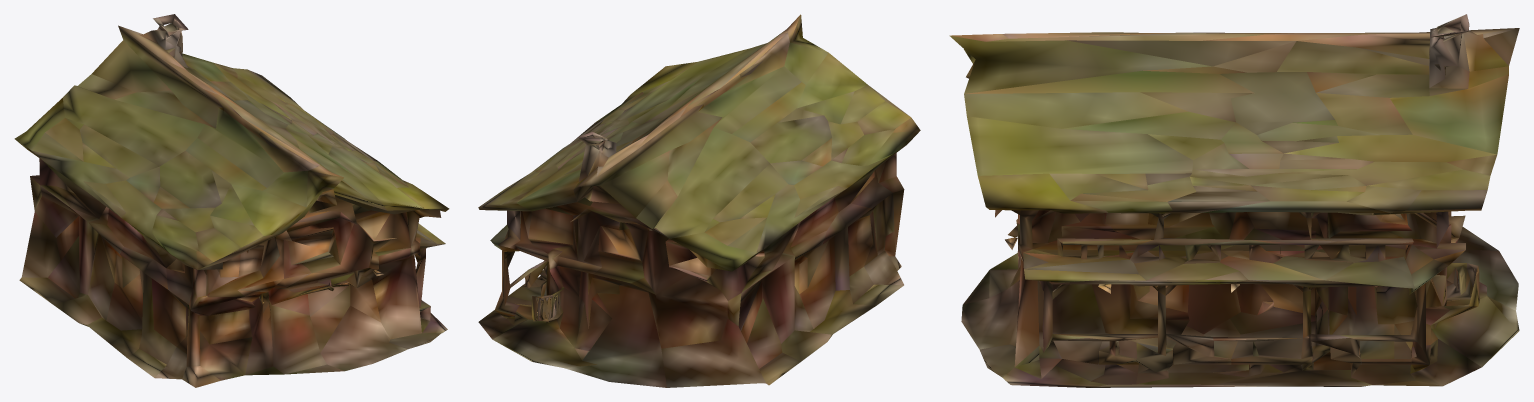
Rendered from wooden-house-lod.glb.
The picture shows the model from 3 angles, left to right: view 1: azimuth 30°, elevation 25°; view 2: azimuth 150°, elevation 25°; view 3: azimuth 270°, elevation 25°; orthographic projection. The views are drawn at different scales.
Parts seen in each view (by area): view 1: tripo_node_5d925133; view 2: tripo_node_5d925133; view 3: tripo_node_5d925133.
Part boxes in pixels (box(x1,y1,x2,y2)): tripo_node_5d925133: box(14, 14, 449, 387); tripo_node_5d925133: box(478, 14, 920, 387); tripo_node_5d925133: box(949, 14, 1519, 387).
Bounding box in the file's own units: 0.7541 × 0.5598 × 0.9984.
Materials: 1 (1 with a texture image).
